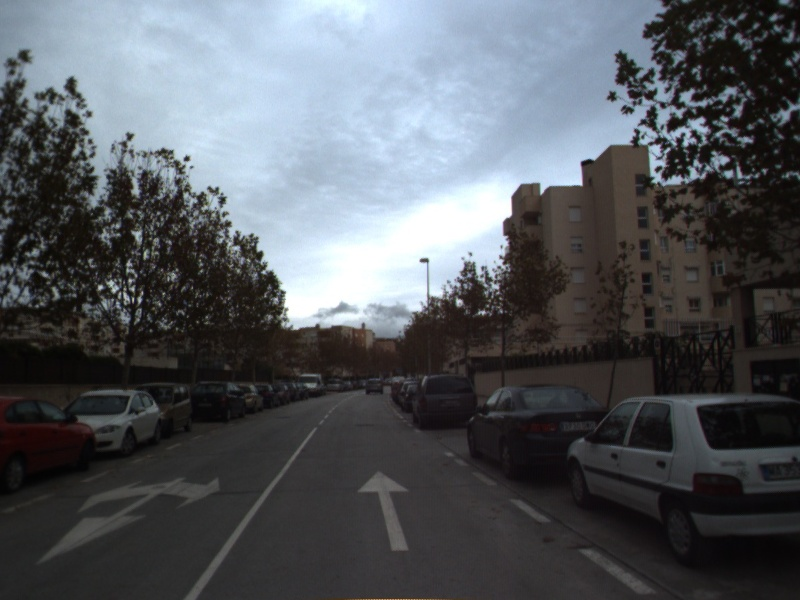STRAIGHT: (355, 468, 411, 553)
